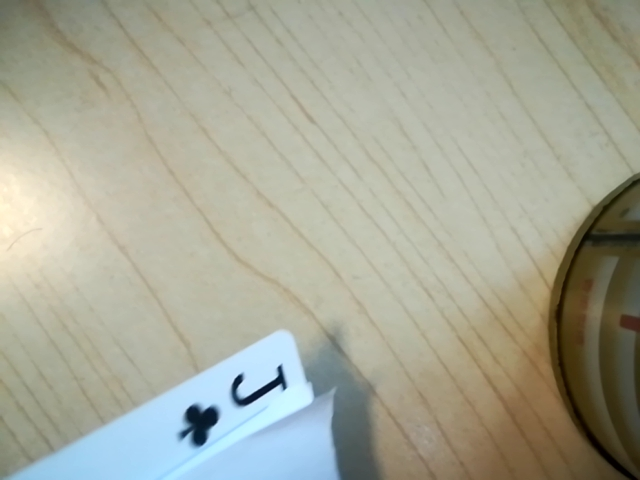mh j: (166, 357, 308, 450)
